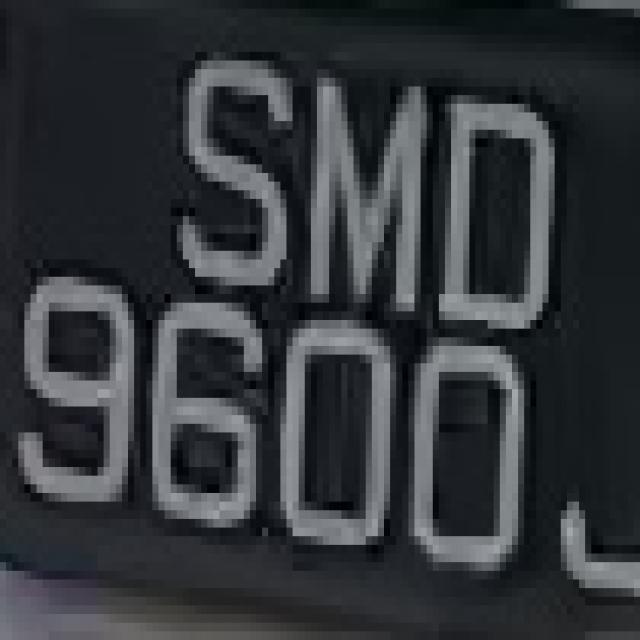0: (268, 260, 396, 580), (396, 320, 524, 605)
6: (122, 268, 262, 528)
9: (12, 234, 134, 511)
D: (445, 69, 549, 346)
J: (5, 4, 6, 8)
M: (305, 69, 439, 329)
S: (170, 9, 298, 320)
